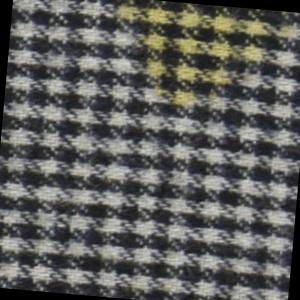Stain: (107, 1, 299, 119)
